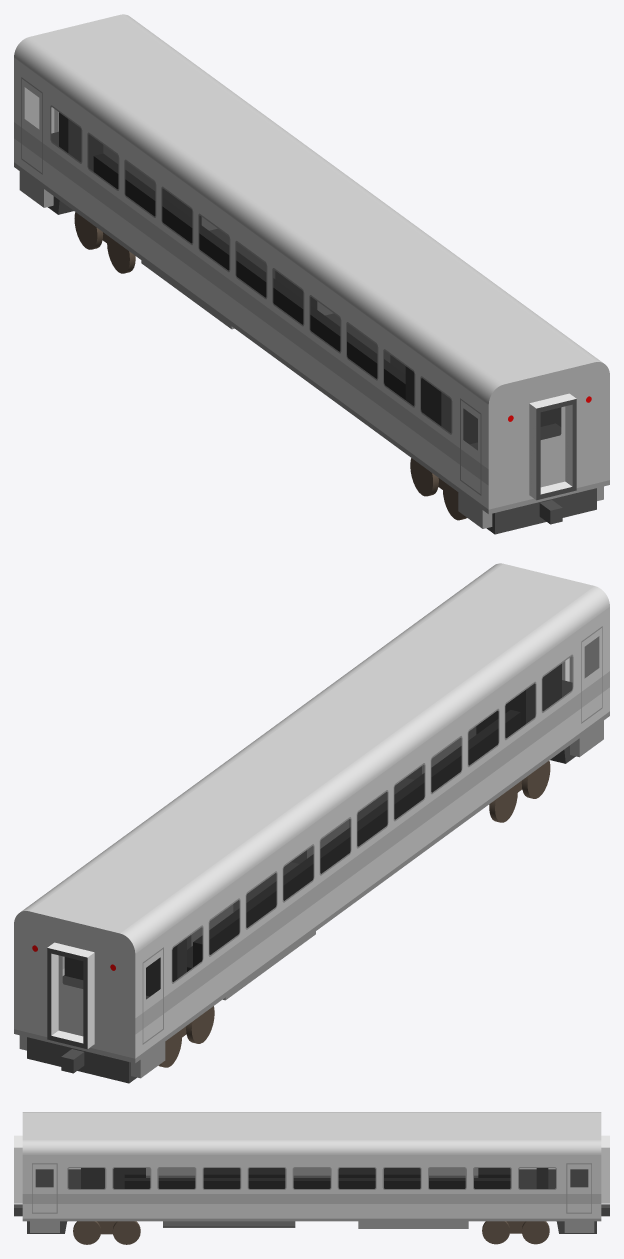
File: lounge-car.glb
3 renders of one model, top to bottom at view 1: azimuth 30°, elevation 25°; view 2: azimuth 150°, elevation 25°; view 3: azimuth 270°, elevation 25°, orthographic. The views are drawn at different scales.
Parts seen in each view (by area): view 1: group_0, Box (×2), Box_5, Box_2, group_3_1; view 2: group_0, Box (×2), Box_5, Box_2, group_3_1, group_5_1; view 3: group_0, Box (×6), Box_4, group_2_1, group_4_1, group_2, group_4, Box_3.
Boxes of the visible parts, x1,y1,x2,y2 form: group_0: (14,14,609,534); Box (×2): (51,131,561,450); Box_5: (405,366,477,444); Box_2: (59,112,103,171); group_3_1: (410,458,438,496); group_0: (14,563,609,1083); Box (×2): (62,680,572,999); Box_5: (476,663,561,734); Box_2: (146,938,186,996); group_3_1: (489,784,517,822); group_5_1: (521,760,550,798); group_0: (14,1112,609,1233); Box (×6): (35,1168,588,1188); Box_4: (81,1168,124,1188); group_2_1: (112,1221,140,1244); group_4_1: (73,1221,100,1244); group_2: (521,1221,549,1244); group_4: (482,1221,509,1244); Box_3: (536,1168,548,1188).
Size of the model in its own units: 3.02 by 4.13 by 21.08.
